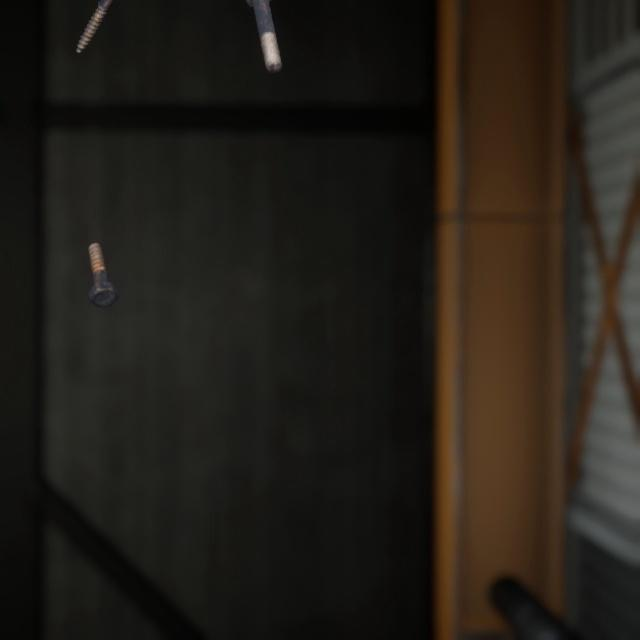bolt: (83, 222, 123, 294), (249, 0, 286, 68), (71, 0, 114, 50)
